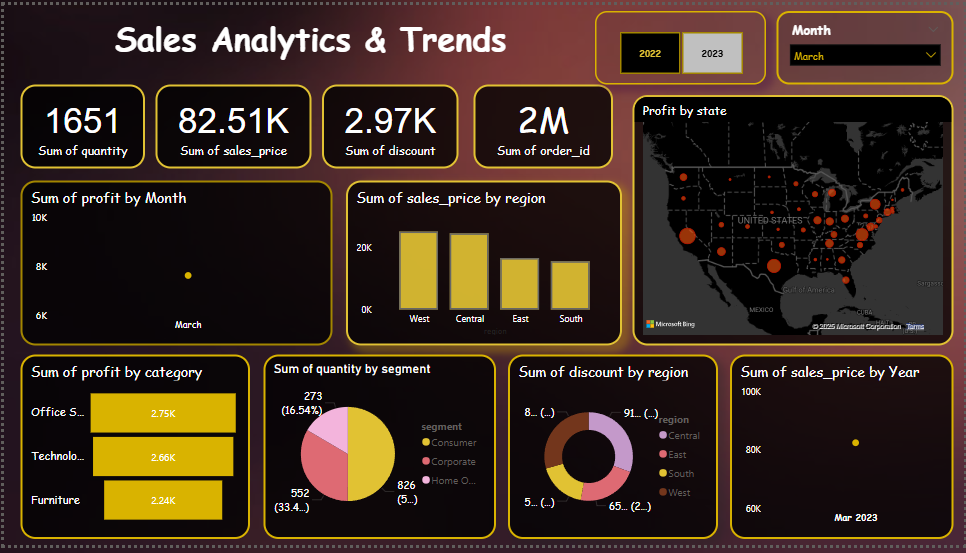

The dashboard page shown, as its layout file describes it:
{"tool":"powerbi","page":{"name":"Page 1","canvas":[1280,720],"ordinal":0},"visuals":[{"type":"card","fields":{"Values":["Sum(orders_modified.order_id)"]},"box":[626,106,186,112],"z":0},{"type":"clusteredColumnChart","fields":{"Category":["orders_modified.region"],"Y":["Sum(orders_modified.sales_price)"]},"box":[456,234,368,220],"z":1000},{"type":"areaChart","fields":{"Category":["orders_modified.order_date.Variation.Date Hierarchy.Year"],"Y":["Sum(orders_modified.sales_price)"]},"box":[968,466,298,246],"z":2000},{"type":"donutChart","fields":{"Y":["Sum(orders_modified.discount)"],"Series":["orders_modified.region"]},"box":[672,466,280,246],"z":3000},{"type":"funnel","fields":{"Category":["orders_modified.category"],"Y":["Sum(orders_modified.profit)"]},"box":[22,466,306,246],"z":4000},{"type":"lineStackedColumnComboChart","fields":{"Category":["orders_modified.order_date.Variation.Date Hierarchy.Month"],"Y2":["Sum(orders_modified.profit)"]},"box":[22,234,416,220],"z":5000},{"type":"map","title":"Profit by state","fields":{"Category":["orders_modified.state"],"Size":["Sum(orders_modified.profit)"]},"box":[838,120,428,334],"z":6000},{"type":"pieChart","fields":{"Category":["orders_modified.segment"],"Y":["Sum(orders_modified.quantity)"]},"box":[346,466,310,246],"z":7000},{"type":"slicer","fields":{"Values":["orders_modified.order_date.Variation.Date Hierarchy.Year"]},"box":[788,8,228,98],"z":8000},{"type":"card","fields":{"Values":["Sum(orders_modified.quantity)"]},"box":[22,106,166,112],"z":9000},{"type":"card","fields":{"Values":["Sum(orders_modified.discount)"]},"box":[424,106,182,112],"z":10000},{"type":"card","fields":{"Values":["Sum(orders_modified.sales_price)"]},"box":[202,106,208,112],"z":11000},{"type":"textbox","box":[86,8,664,128],"z":12000},{"type":"slicer","fields":{"Values":["orders_modified.order_date.Variation.Date Hierarchy.Month"]},"box":[1030,8,236,98],"z":13000}]}

Visuals, with their boxes in screenshot pixels (x1, y1, x2, y2), scaled from the page's 1280x720 canvas onto the 966x553 screenshot:
card - Sum(orders_modified.order_id): left=472, top=81, right=613, bottom=167
clusteredColumnChart - orders_modified.region x Sum(orders_modified.sales_price): left=344, top=180, right=622, bottom=349
areaChart - orders_modified.order_date.Variation.Date Hierarchy.Year x Sum(orders_modified.sales_price): left=731, top=358, right=955, bottom=547
donutChart - Sum(orders_modified.discount) x orders_modified.region: left=507, top=358, right=718, bottom=547
funnel - orders_modified.category x Sum(orders_modified.profit): left=17, top=358, right=248, bottom=547
lineStackedColumnComboChart - orders_modified.order_date.Variation.Date Hierarchy.Month x Sum(orders_modified.profit): left=17, top=180, right=331, bottom=349
"Profit by state" map: left=632, top=92, right=955, bottom=349
pieChart - orders_modified.segment x Sum(orders_modified.quantity): left=261, top=358, right=495, bottom=547
slicer - orders_modified.order_date.Variation.Date Hierarchy.Year: left=595, top=6, right=767, bottom=81
card - Sum(orders_modified.quantity): left=17, top=81, right=142, bottom=167
card - Sum(orders_modified.discount): left=320, top=81, right=457, bottom=167
card - Sum(orders_modified.sales_price): left=152, top=81, right=309, bottom=167
textbox: left=65, top=6, right=566, bottom=104
slicer - orders_modified.order_date.Variation.Date Hierarchy.Month: left=777, top=6, right=955, bottom=81
